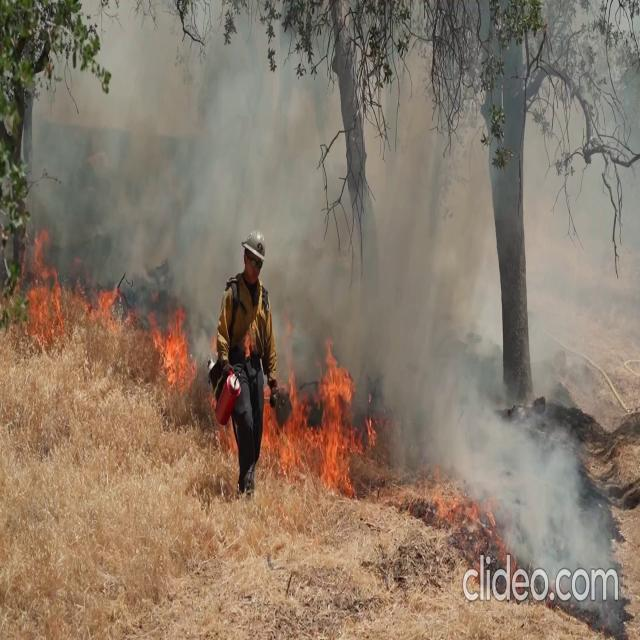Fire: (264, 343, 378, 491), (16, 231, 122, 337), (148, 305, 196, 389)
Smoke: (18, 17, 510, 319), (396, 264, 616, 596)
